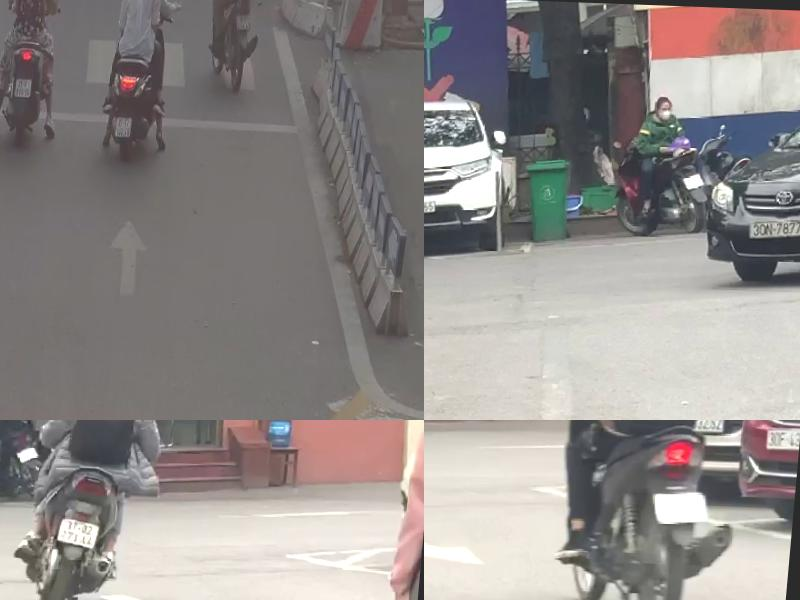license_plate: (656, 484, 719, 523), (63, 514, 105, 546), (19, 440, 44, 460), (686, 167, 708, 186), (18, 76, 36, 96), (120, 114, 136, 133), (239, 11, 253, 26)
motorcyclist: (534, 420, 761, 600), (17, 420, 177, 600), (0, 0, 77, 184), (107, 0, 185, 176), (203, 0, 272, 87)
